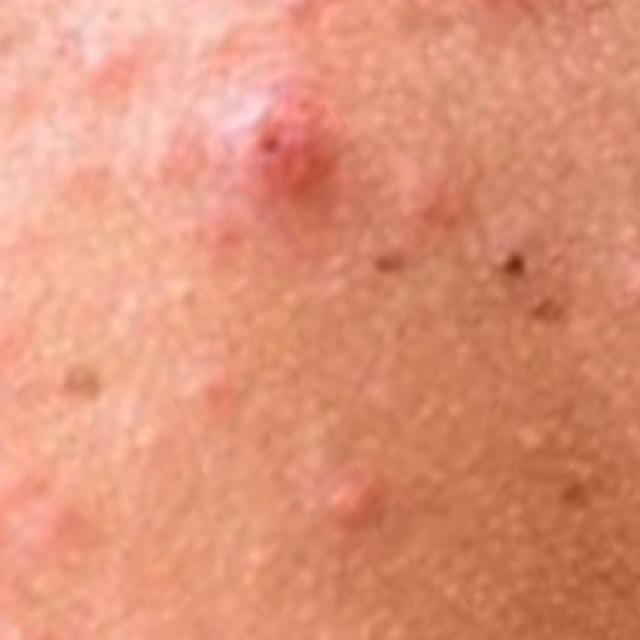acne: (192, 62, 346, 212), (0, 426, 106, 578), (42, 0, 156, 109), (462, 220, 568, 332), (304, 450, 394, 536), (370, 0, 590, 19)
